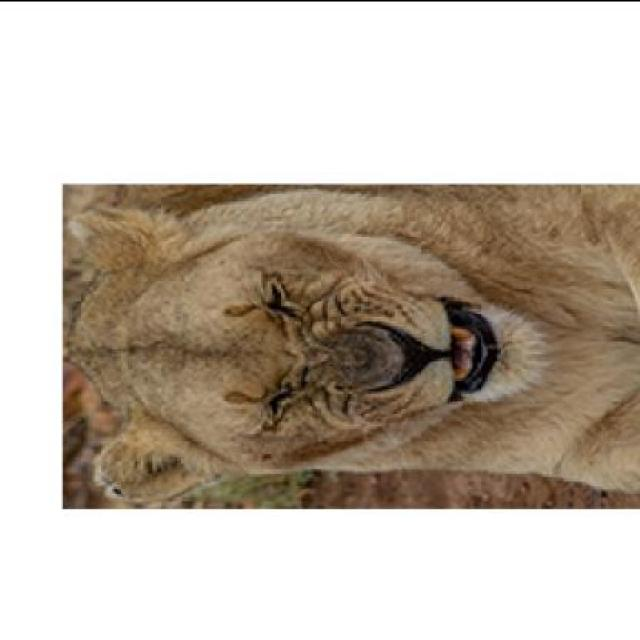Lion: (51, 172, 638, 545)
